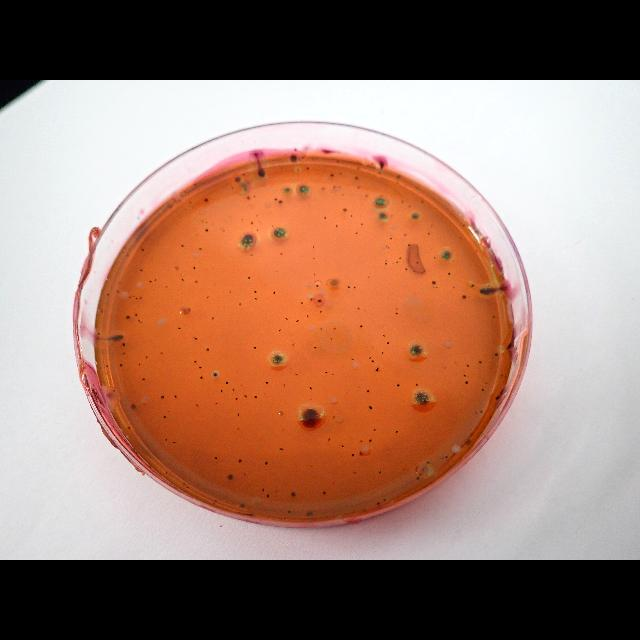colony: (299, 405, 323, 431), (414, 390, 431, 406), (240, 233, 254, 249), (270, 352, 286, 366), (408, 344, 424, 356), (256, 162, 266, 178), (299, 184, 311, 196), (374, 197, 388, 207), (273, 228, 287, 238), (478, 288, 498, 294), (111, 333, 125, 341), (441, 250, 452, 260), (378, 212, 389, 222), (329, 277, 339, 287), (288, 154, 298, 164), (178, 306, 190, 314), (226, 472, 234, 482), (235, 176, 243, 184), (306, 509, 314, 516), (130, 404, 138, 410), (412, 213, 420, 219), (240, 502, 247, 508), (322, 490, 328, 496), (290, 491, 296, 497), (248, 512, 254, 518), (213, 372, 219, 378), (494, 394, 500, 400), (431, 279, 437, 285), (166, 203, 172, 209), (278, 410, 284, 416), (244, 186, 248, 194), (369, 405, 373, 411), (261, 487, 265, 493), (161, 394, 165, 400), (237, 412, 241, 418), (264, 460, 268, 466), (461, 295, 467, 299), (334, 184, 338, 190), (284, 188, 290, 192), (278, 200, 284, 204), (204, 198, 210, 202), (126, 314, 130, 320), (317, 299, 323, 303), (359, 451, 363, 457), (342, 208, 348, 212), (386, 340, 389, 346), (309, 386, 313, 390), (351, 358, 355, 362), (396, 384, 400, 388), (395, 430, 399, 434), (372, 428, 376, 432), (368, 439, 372, 443), (378, 470, 382, 474), (427, 461, 431, 465), (416, 476, 420, 480), (266, 494, 270, 498), (183, 482, 187, 486), (174, 395, 178, 399), (122, 342, 126, 346), (138, 362, 142, 366), (194, 359, 198, 363), (198, 366, 202, 370), (199, 376, 203, 380), (236, 427, 240, 431), (254, 395, 258, 399), (195, 403, 199, 407), (238, 459, 242, 463), (478, 360, 482, 364), (494, 353, 498, 357), (492, 315, 496, 319), (470, 284, 474, 288), (448, 272, 452, 276), (357, 186, 361, 190), (365, 194, 369, 198), (354, 176, 358, 180), (378, 170, 382, 174), (397, 175, 401, 179), (330, 173, 334, 177), (274, 197, 278, 201), (247, 196, 251, 200), (205, 228, 209, 232), (181, 244, 185, 248), (141, 248, 145, 252), (106, 292, 110, 296), (134, 313, 138, 317), (382, 334, 386, 338), (306, 314, 310, 318), (278, 328, 282, 332), (272, 291, 276, 295), (238, 302, 242, 306), (228, 290, 232, 294), (194, 280, 198, 284), (282, 383, 286, 387), (294, 373, 298, 377), (294, 148, 298, 152), (306, 167, 310, 171), (321, 187, 325, 191), (312, 257, 316, 261), (279, 252, 283, 256), (368, 356, 372, 359), (376, 501, 379, 505), (165, 438, 168, 442), (172, 441, 176, 444), (127, 426, 131, 429), (105, 364, 108, 368), (220, 389, 223, 393), (232, 388, 235, 392), (215, 456, 218, 460), (278, 448, 284, 450), (466, 363, 469, 367), (481, 388, 484, 392), (481, 410, 484, 414), (391, 214, 394, 218), (185, 190, 188, 194), (250, 221, 253, 225), (178, 326, 182, 329), (207, 348, 210, 352), (255, 290, 258, 294), (253, 346, 257, 349), (333, 414, 335, 420), (240, 218, 243, 222), (187, 486, 190, 489), (361, 222, 364, 225), (336, 160, 339, 163), (242, 172, 245, 175), (247, 180, 250, 183), (324, 372, 328, 374), (332, 372, 334, 376), (371, 360, 375, 362), (376, 368, 378, 372), (351, 454, 355, 456), (342, 444, 344, 448), (328, 437, 330, 441), (384, 498, 386, 502), (288, 510, 290, 514), (284, 516, 286, 520), (214, 500, 218, 502), (244, 472, 246, 476), (162, 416, 166, 418), (142, 378, 146, 380), (120, 363, 122, 367), (123, 351, 125, 355), (145, 356, 149, 358), (226, 381, 228, 385), (215, 402, 219, 404), (235, 398, 239, 400), (244, 394, 246, 398), (265, 382, 269, 384), (466, 380, 468, 384), (464, 374, 466, 378), (501, 374, 503, 378), (488, 284, 490, 288), (452, 286, 456, 288), (434, 256, 436, 260), (403, 234, 407, 236), (407, 244, 411, 246), (399, 256, 401, 260), (396, 260, 398, 264), (384, 263, 388, 265), (404, 268, 408, 270), (354, 232, 358, 234), (198, 248, 202, 250), (126, 254, 130, 256), (140, 268, 142, 272), (154, 278, 156, 282), (182, 278, 184, 282), (140, 296, 142, 300), (132, 295, 136, 297), (128, 296, 132, 298), (118, 282, 122, 284), (116, 290, 120, 292), (138, 318, 140, 322), (98, 332, 100, 336), (274, 490, 278, 492), (360, 324, 362, 328), (382, 351, 384, 355), (320, 310, 322, 314), (300, 302, 304, 304), (296, 320, 300, 322), (285, 318, 289, 320), (310, 298, 312, 302), (316, 284, 318, 288), (312, 245, 314, 249), (257, 228, 259, 232), (194, 266, 196, 270), (212, 316, 214, 320), (248, 276, 250, 280), (255, 297, 257, 301), (324, 216, 326, 220), (301, 156, 303, 160), (298, 168, 300, 172), (316, 156, 318, 160), (313, 273, 315, 277), (396, 307, 398, 311), (333, 328, 337, 330), (330, 337, 332, 341), (320, 327, 322, 331), (366, 390, 369, 392), (240, 384, 243, 386), (460, 237, 462, 240), (428, 232, 430, 235), (402, 200, 404, 203), (409, 205, 411, 208), (232, 187, 234, 190), (180, 194, 183, 196), (256, 215, 258, 218), (222, 230, 225, 232), (206, 220, 208, 223), (195, 338, 198, 340), (160, 352, 163, 354), (336, 225, 338, 228), (350, 215, 352, 218), (341, 192, 343, 195), (356, 308, 359, 310), (314, 346, 316, 349), (376, 367, 378, 369), (416, 384, 418, 386), (360, 440, 362, 442), (446, 456, 448, 458), (442, 457, 444, 459), (166, 472, 168, 474), (489, 416, 491, 418), (433, 286, 435, 288), (435, 286, 437, 288), (452, 260, 454, 262), (463, 224, 465, 226), (431, 225, 433, 227), (390, 237, 392, 239), (386, 245, 388, 247), (388, 247, 390, 249), (416, 262, 418, 264), (385, 260, 387, 262), (421, 200, 423, 202), (397, 182, 399, 184), (340, 172, 342, 174), (339, 186, 341, 188), (293, 186, 295, 188), (254, 196, 256, 198), (194, 183, 196, 185), (190, 202, 192, 204), (185, 208, 187, 210), (150, 280, 152, 282), (166, 286, 168, 288), (136, 298, 138, 300), (140, 321, 142, 323), (396, 312, 398, 314), (354, 286, 356, 288), (348, 286, 350, 288), (251, 254, 253, 256), (272, 225, 274, 227), (207, 296, 209, 298), (276, 270, 278, 272), (364, 310, 366, 312), (292, 344, 294, 346)
